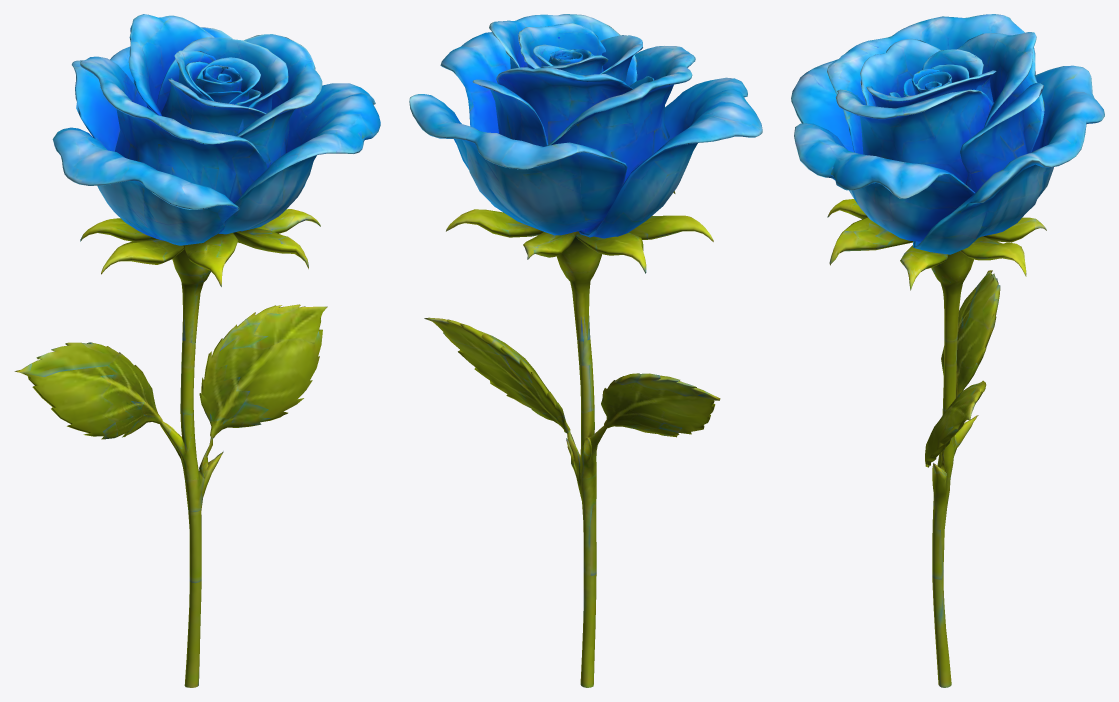
The model's file is rose_blue.glb.
3 views of the same model, side by side, from view 1: azimuth 30°, elevation 25°; view 2: azimuth 150°, elevation 25°; view 3: azimuth 270°, elevation 25° (orthographic).
Parts seen in each view (by area): view 1: geometry_0; view 2: geometry_0; view 3: geometry_0.
Part boxes in pixels (box(x1,y1,x2,y2)): geometry_0: box(14, 14, 380, 687); geometry_0: box(409, 14, 762, 687); geometry_0: box(791, 14, 1104, 687).
Bounding box in the file's own units: 0.4912 × 0.9517 × 0.418.
Materials: 1 (1 with a texture image).
